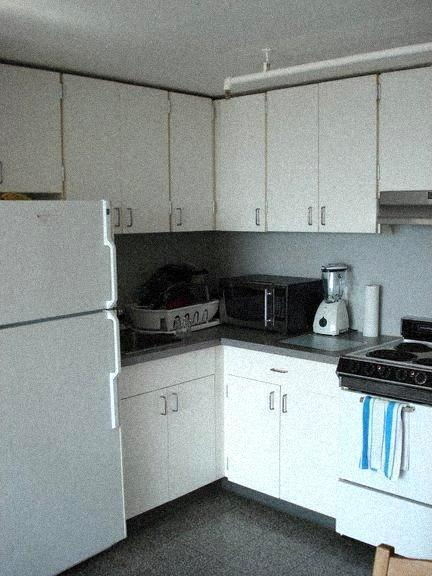Electrodomestico: (6, 200, 113, 570), (338, 355, 431, 558)
